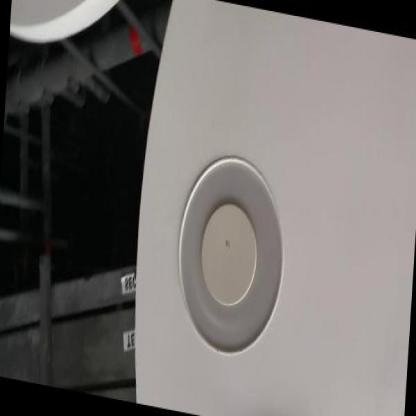light_off: (161, 108, 303, 388)
